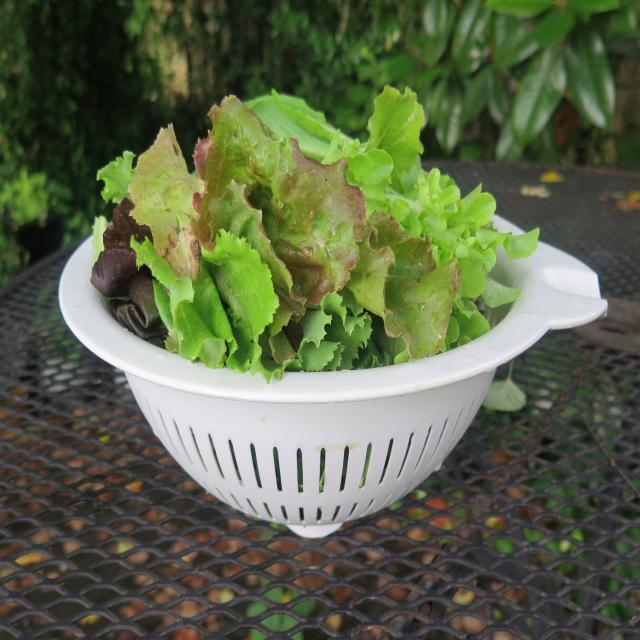lettuce: (134, 86, 498, 352)
